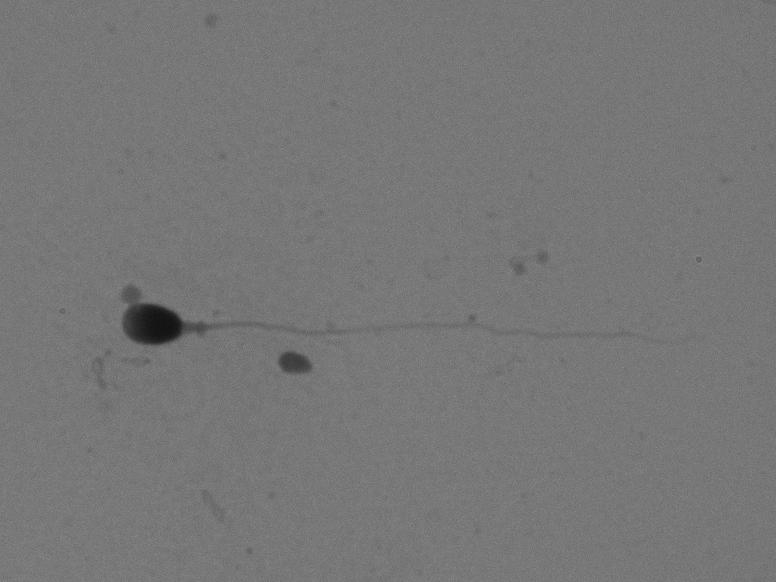Normal: (99, 292, 717, 346)
